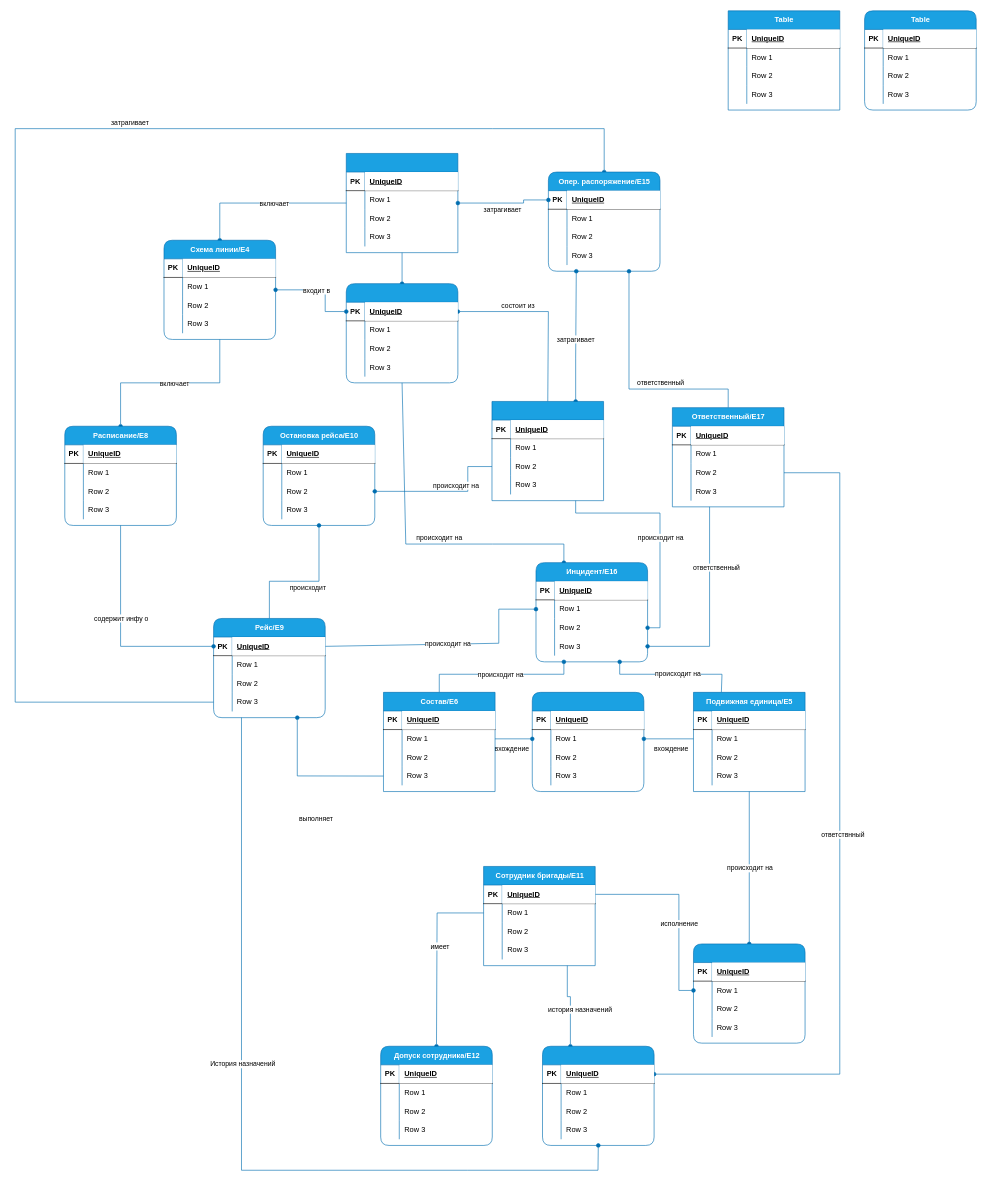
The diagram is 987 pixels wide and 1186 high, and some of its shapes have lost their labels. Here are the shapes that lost their labels. From the top down, the box of each, then its label:
(346, 153, 458, 253): Линия/E1
(346, 283, 458, 383): Участок линии/E3
(491, 401, 604, 501): Станция/E2
(532, 692, 644, 792): Состав поезда/E7
(693, 943, 805, 1043): Тех обслуживание/E14
(542, 1046, 654, 1145): Назначение в бригаду/E13
